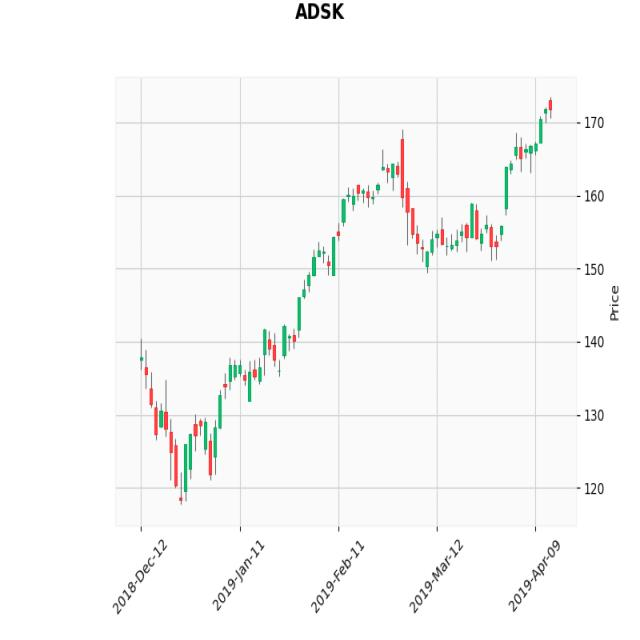Inverse-Head-Shoulders: (139, 350, 224, 514)
